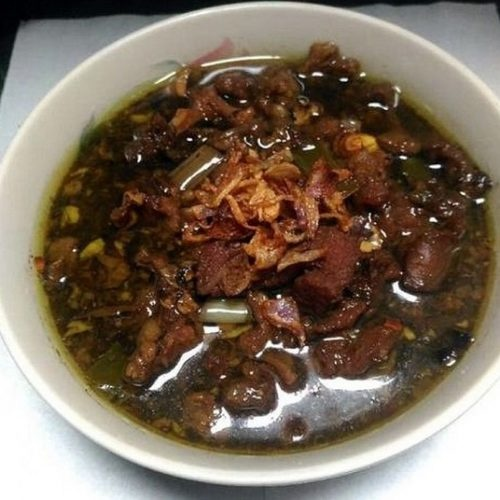rawon: (51, 47, 473, 445)
